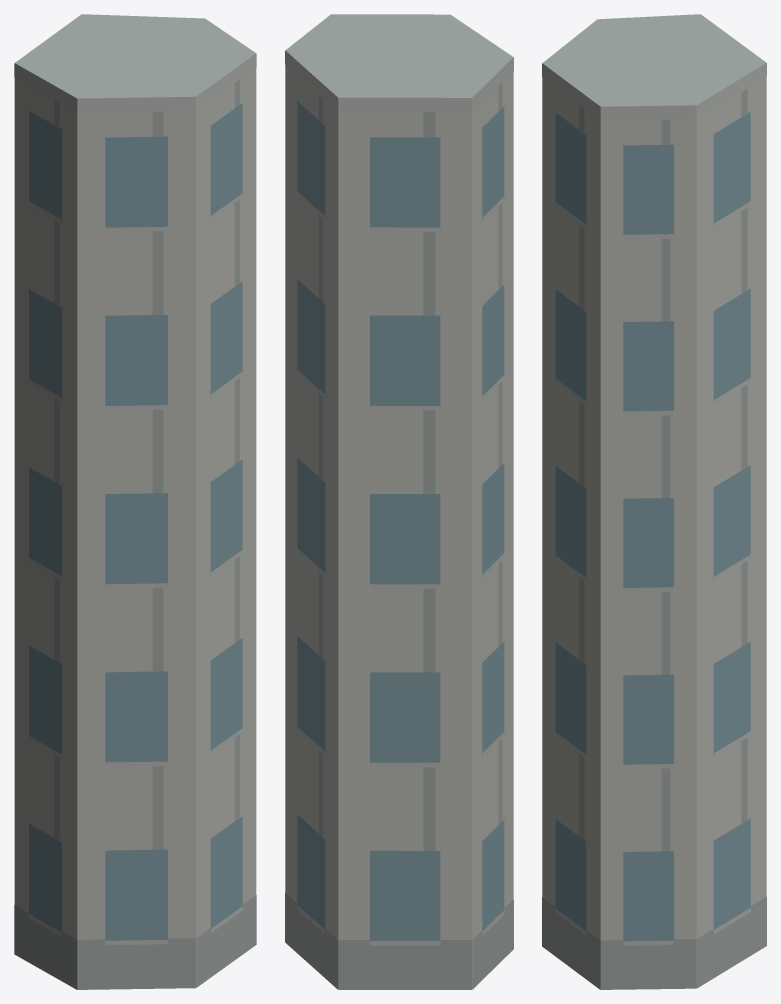
File: survey-upis-32513631.glb
3 views of the same model, side by side, from view 1: azimuth 30°, elevation 25°; view 2: azimuth 150°, elevation 25°; view 3: azimuth 270°, elevation 25° (orthographic).
Visible parts, largest first — view 1: survey-upis-32513631.tmp; view 2: survey-upis-32513631.tmp; view 3: survey-upis-32513631.tmp.
Boxes of the visible parts, <box> form: survey-upis-32513631.tmp: <box>14,14,256,989</box>; survey-upis-32513631.tmp: <box>285,14,513,989</box>; survey-upis-32513631.tmp: <box>542,14,766,989</box>.
Bounding box in the file's own units: 3.44 × 15.25 × 3.52.
